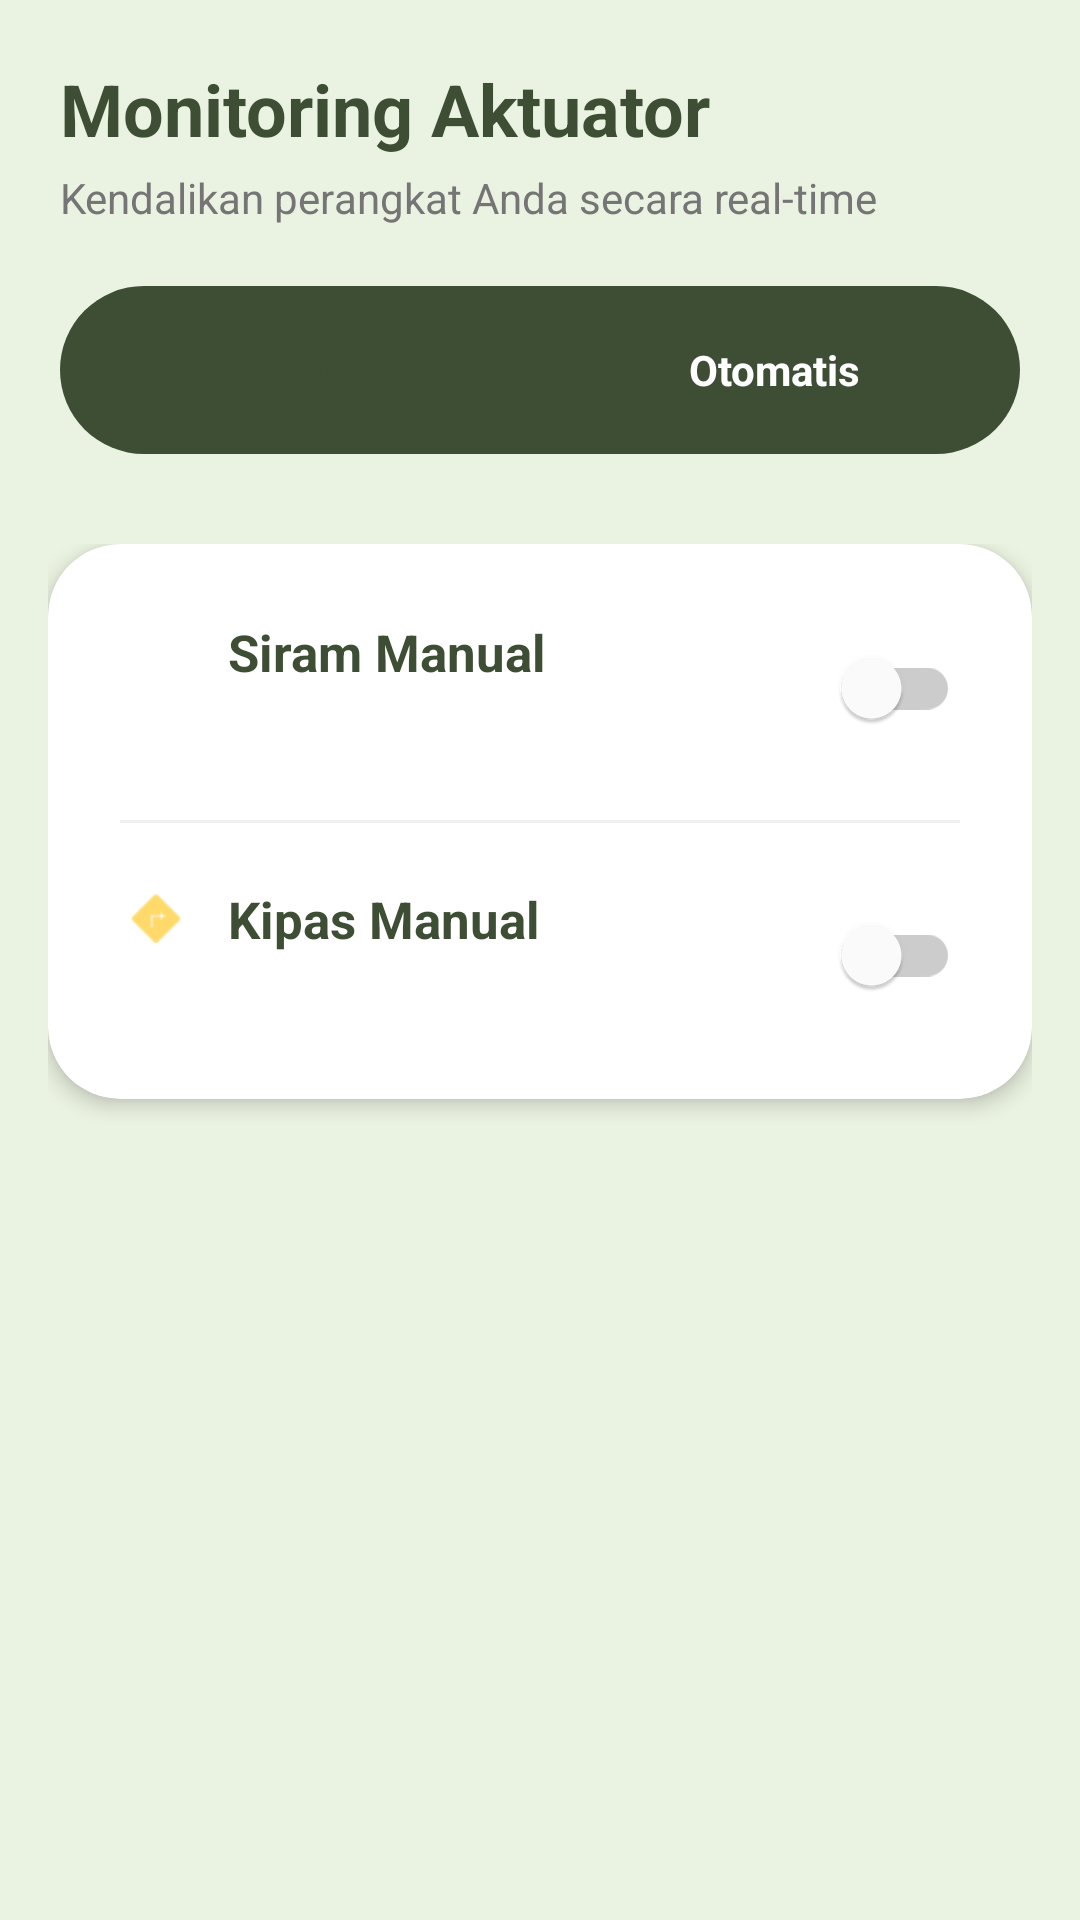

Named icons in this screenshot (1080x1920) and their bounding boxes, (x1, y1, x2, y2):
directions: (131, 894, 181, 943)
